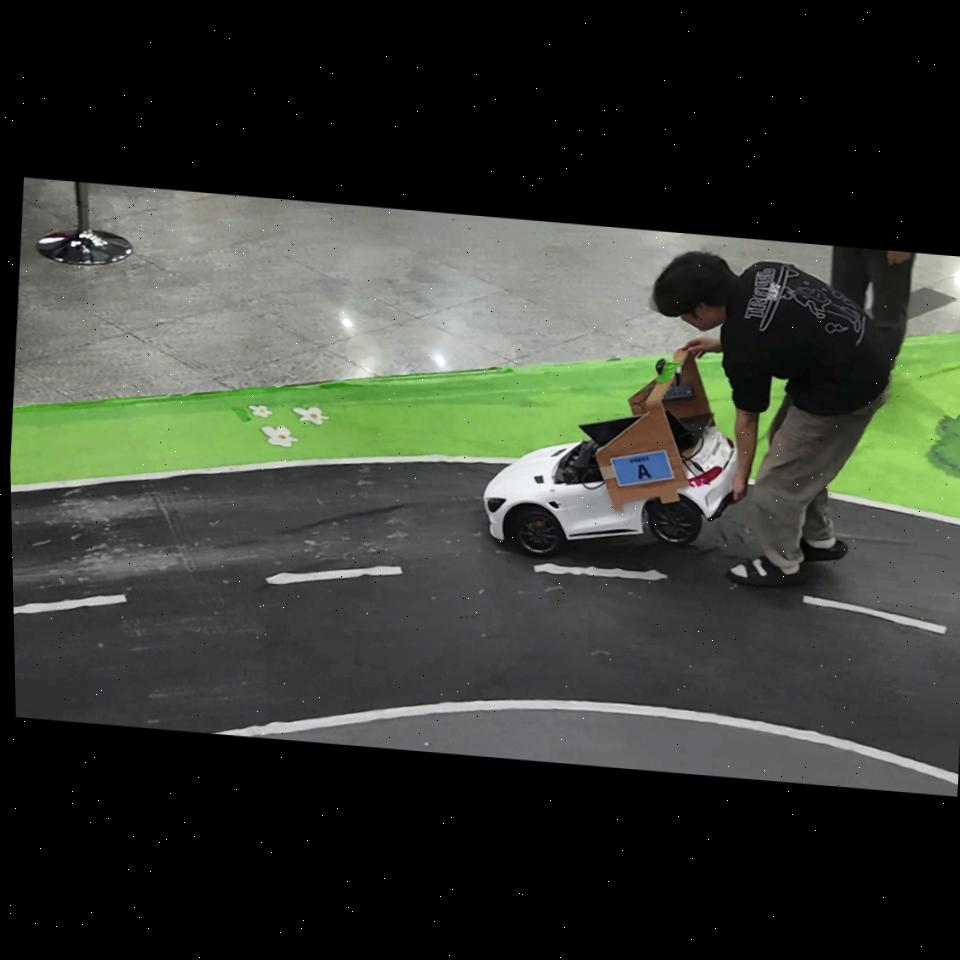broken_line: (803, 596, 947, 634), (265, 565, 403, 584), (13, 594, 127, 615), (533, 563, 668, 580)
